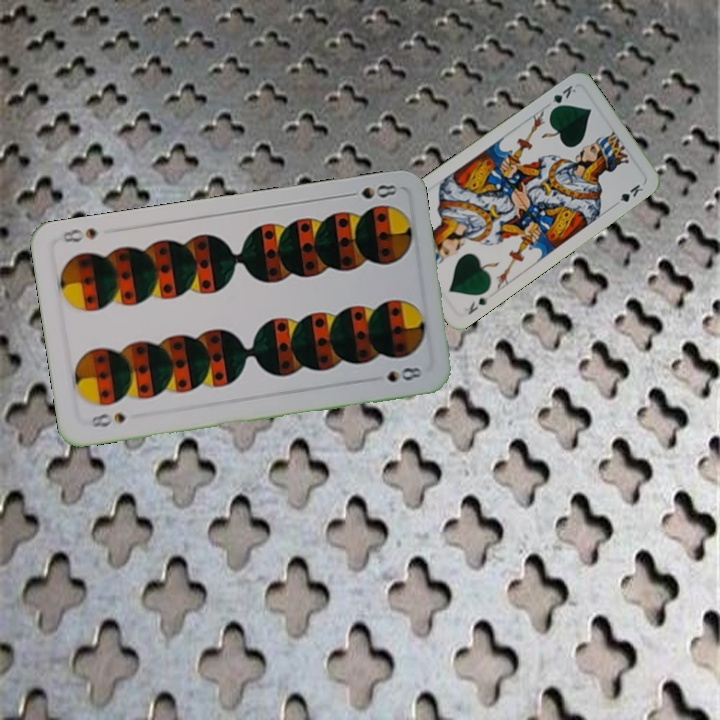GK: (546, 81, 579, 114), (464, 293, 492, 317)
S8: (341, 180, 400, 202), (85, 409, 129, 430)
